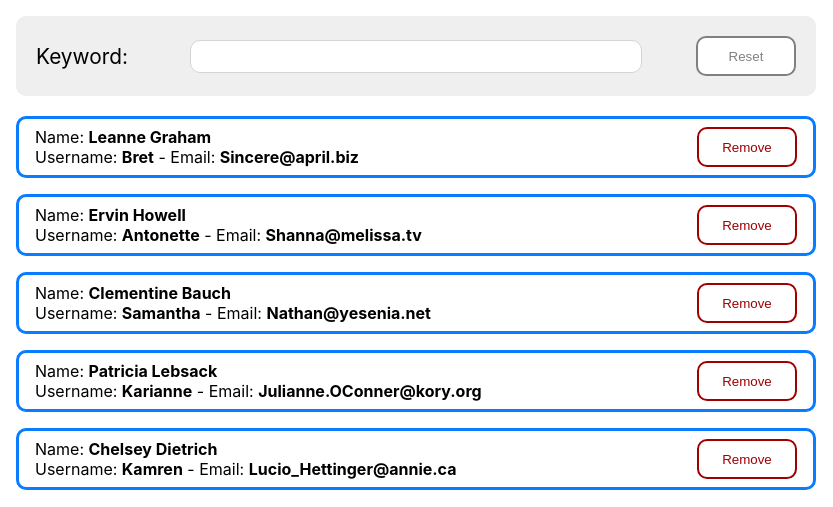
App › Removes item
Click the button "Remove" in the row of "Clementine Bauch": x=747, y=303 [697,283,797,323]
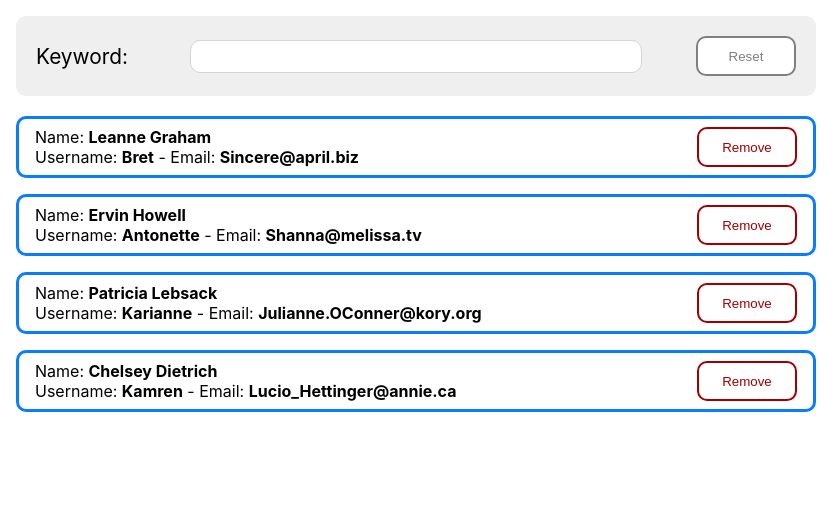
expect the number of list items is 4: met, box [16,116,816,178]; [16,194,816,256]; [16,272,816,334]; [16,350,816,412]
expect the text "Nathan@yesenia.net" is gone: met
